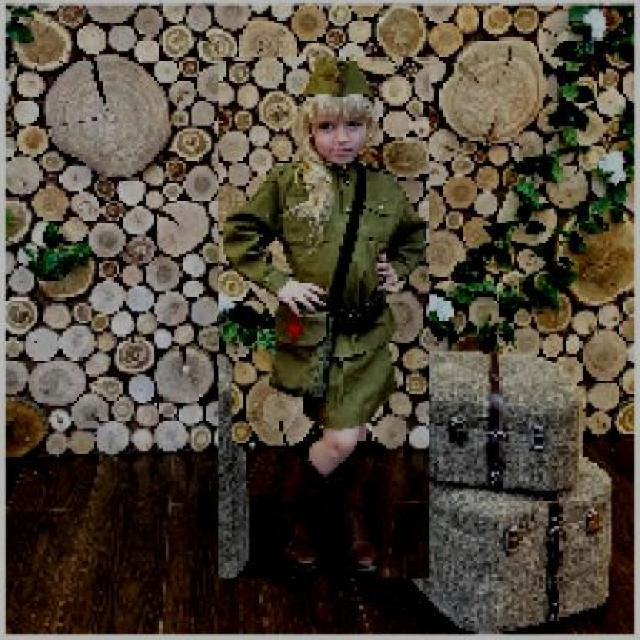child: (217, 57, 429, 580)
